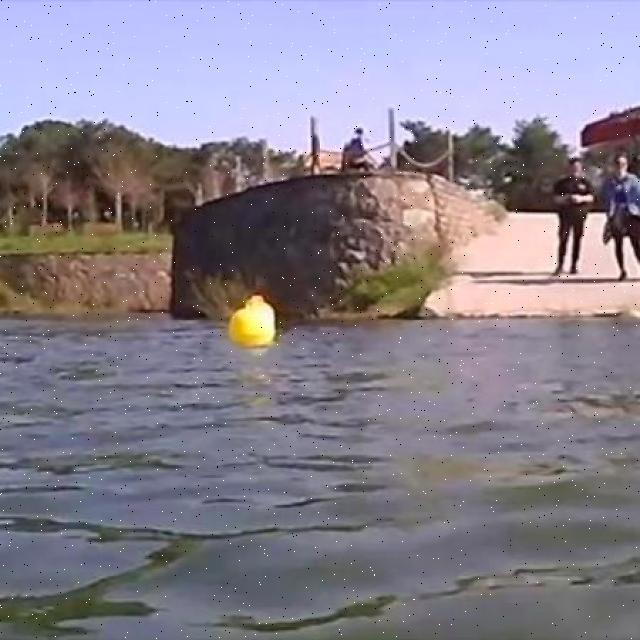buoy: (229, 301, 274, 345)
